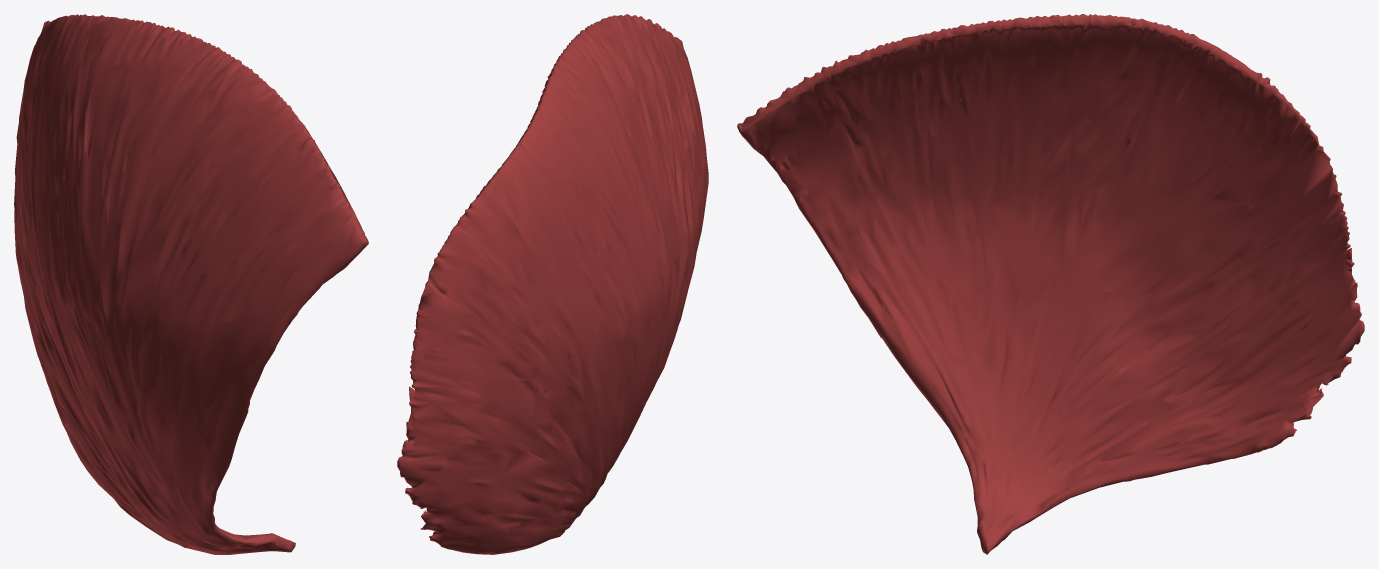
The model's file is temporoparietalis-muscle-r.glb.
3 renders of one model, left to right at view 1: azimuth 30°, elevation 25°; view 2: azimuth 150°, elevation 25°; view 3: azimuth 270°, elevation 25°, orthographic. The views are drawn at different scales.
Parts seen in each view (by area): view 1: Temporoparietalis muscle.r; view 2: Temporoparietalis muscle.r; view 3: Temporoparietalis muscle.r.
Part boxes in pixels (x1=…): Temporoparietalis muscle.r: x1=14, y1=14, x2=368, y2=554; Temporoparietalis muscle.r: x1=397, y1=14, x2=708, y2=554; Temporoparietalis muscle.r: x1=737, y1=14, x2=1364, y2=554.
Bounding box in the file's own units: 0.0382 × 0.1029 × 0.1168.
